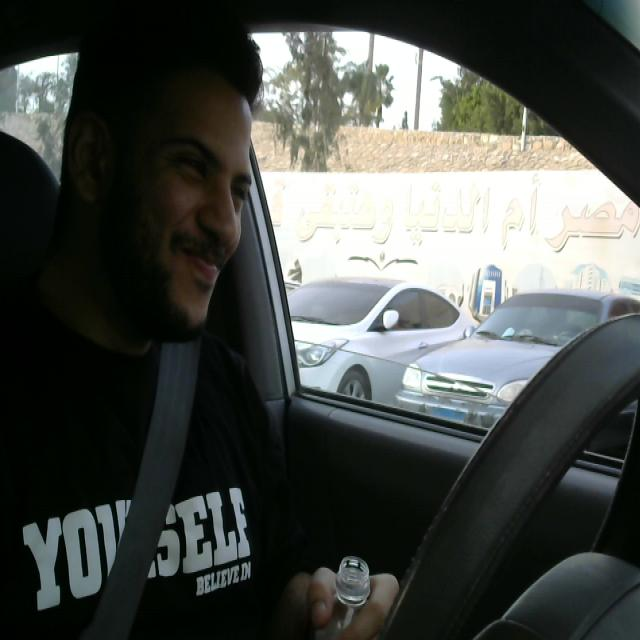drinking: (300, 527, 406, 640)
